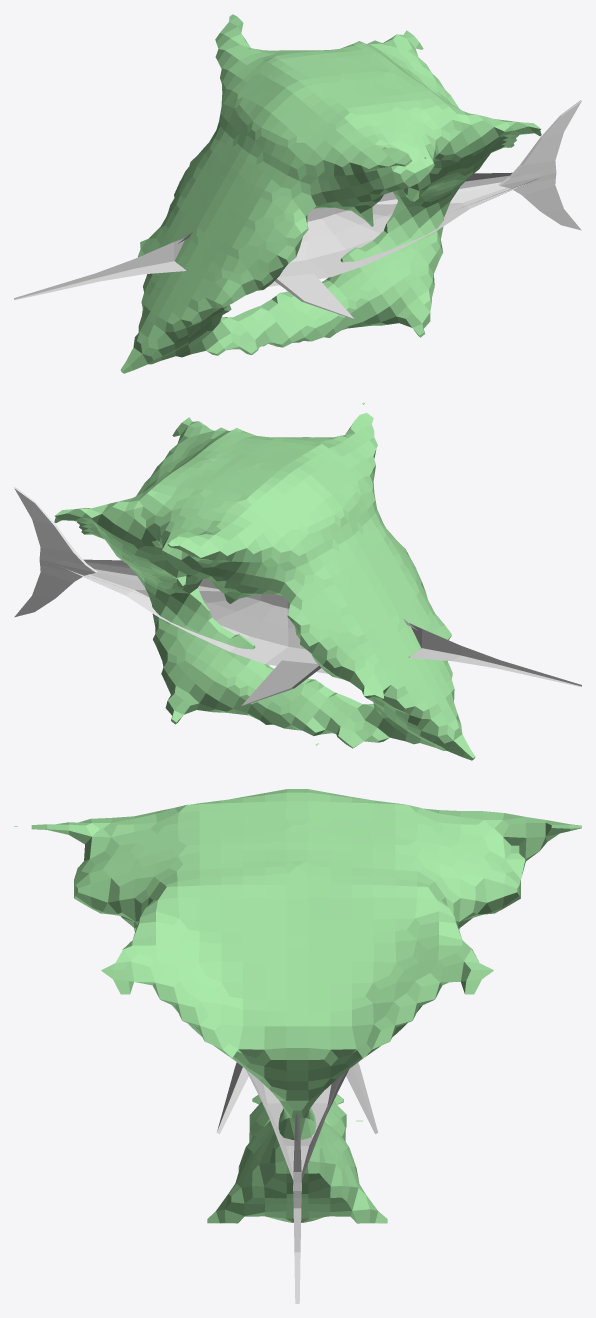
The model's file is creature_2.glb.
The picture shows the model from 3 angles, top to bottom: view 1: azimuth 30°, elevation 25°; view 2: azimuth 150°, elevation 25°; view 3: azimuth 270°, elevation 25°; orthographic projection. The views are drawn at different scales.
Visible parts, largest first — view 1: swordfish.002, swordfish; view 2: swordfish.002, swordfish; view 3: swordfish.002, swordfish.
Boxes of the visible parts, x1,y1,x2,y2 form: swordfish.002: (120,14,541,373); swordfish: (14,100,581,319); swordfish.002: (54,402,475,760); swordfish: (14,487,581,706); swordfish.002: (14,789,581,1223); swordfish: (217,1062,377,1303).
Bounding box in the file's own units: 4.82 × 2.1 × 2.87.
